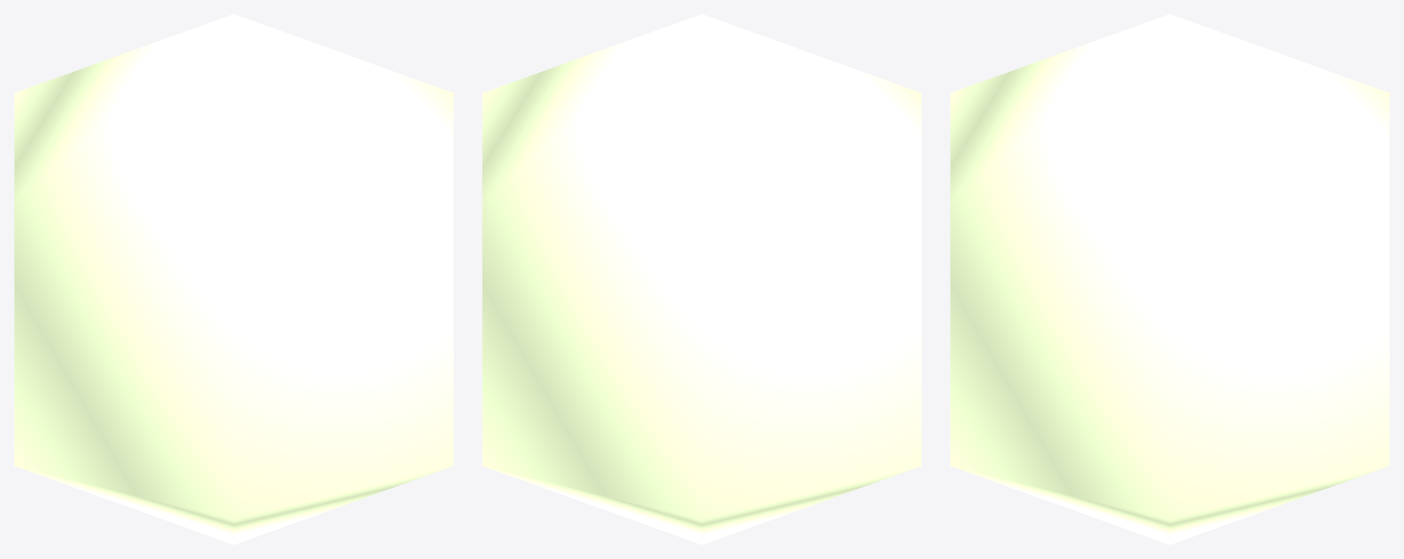
The model's file is s0_Veg_Fruit_Art_01.glb.
The picture shows the model from 3 angles, left to right: view 1: azimuth 30°, elevation 25°; view 2: azimuth 150°, elevation 25°; view 3: azimuth 270°, elevation 25°; orthographic projection.
Visible parts, largest first — view 1: node_Veg_Fruit_Art; view 2: node_Veg_Fruit_Art; view 3: node_Veg_Fruit_Art.
Part boxes in pixels (box(x1,y1,x2,y2)): node_Veg_Fruit_Art: box(14, 14, 453, 544); node_Veg_Fruit_Art: box(482, 14, 921, 544); node_Veg_Fruit_Art: box(950, 14, 1389, 544).
Size of the model in its own units: 0.2133 by 0.2462 by 0.1847.
